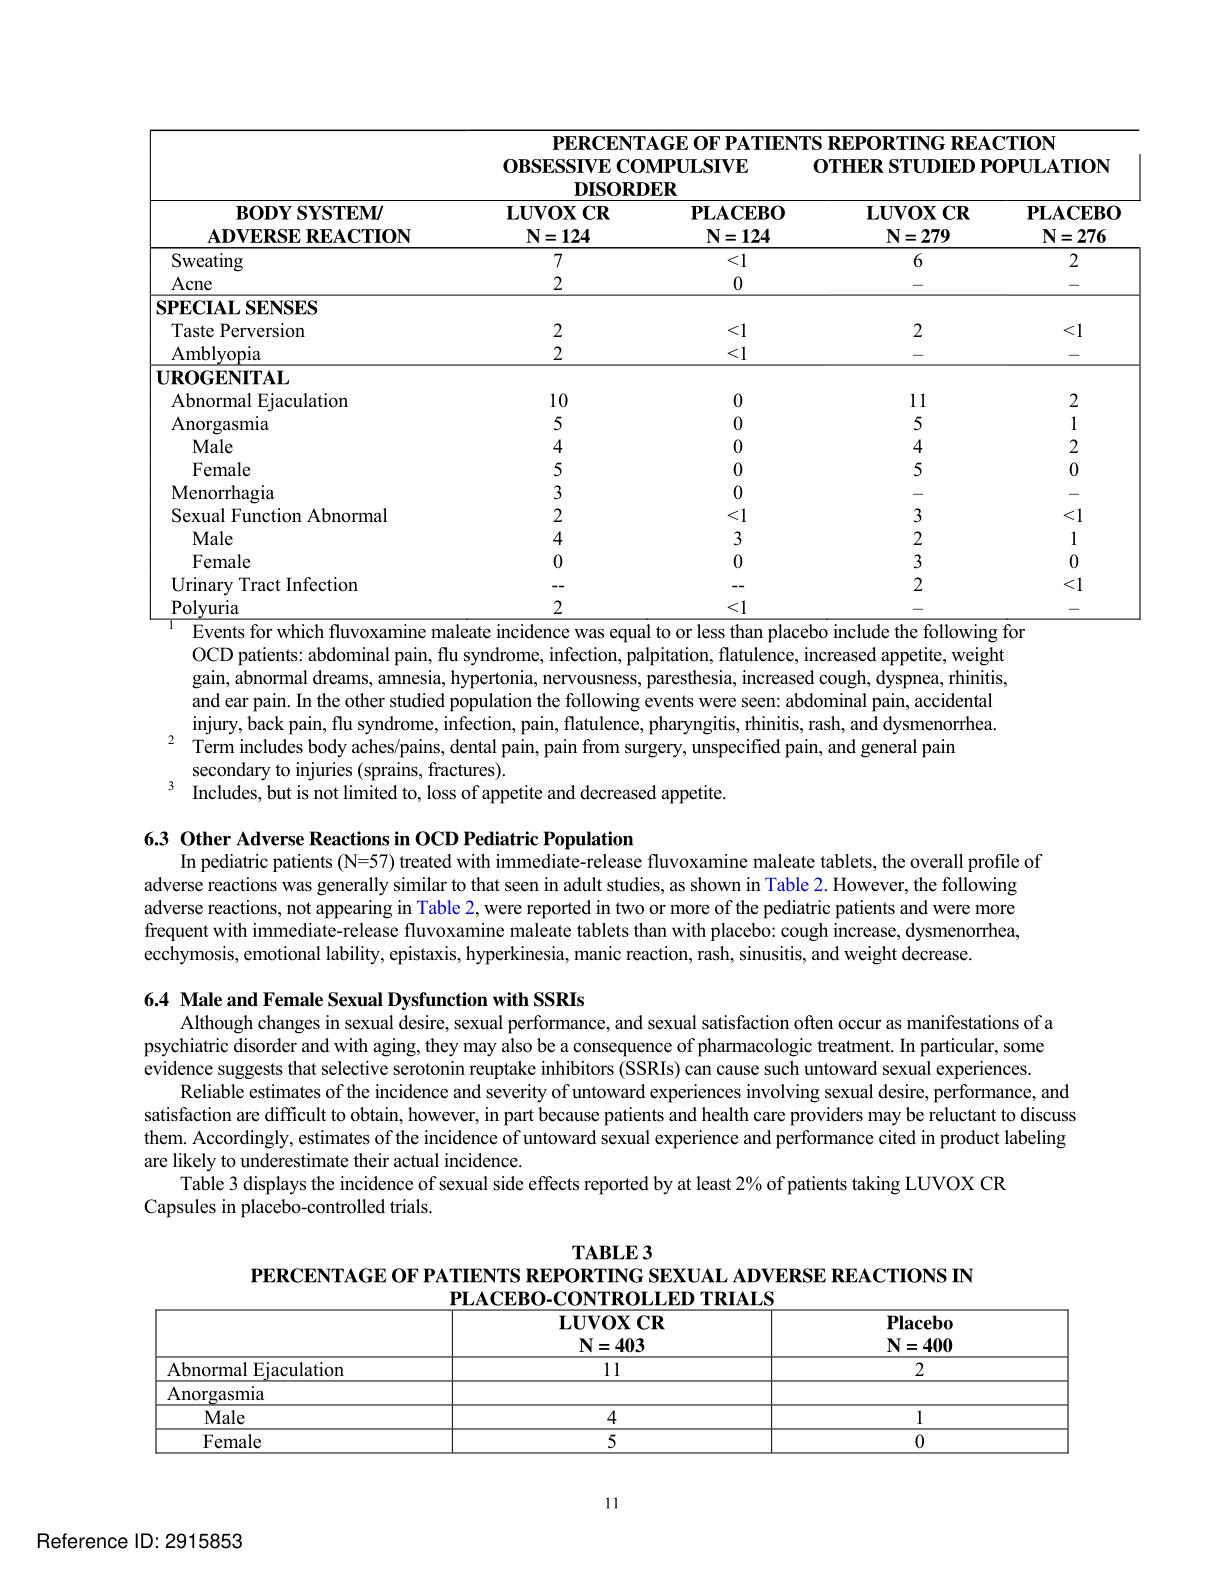full_lined: (156, 1309, 1070, 1455)
partial_lined_merged_cells: (149, 127, 1143, 621)
